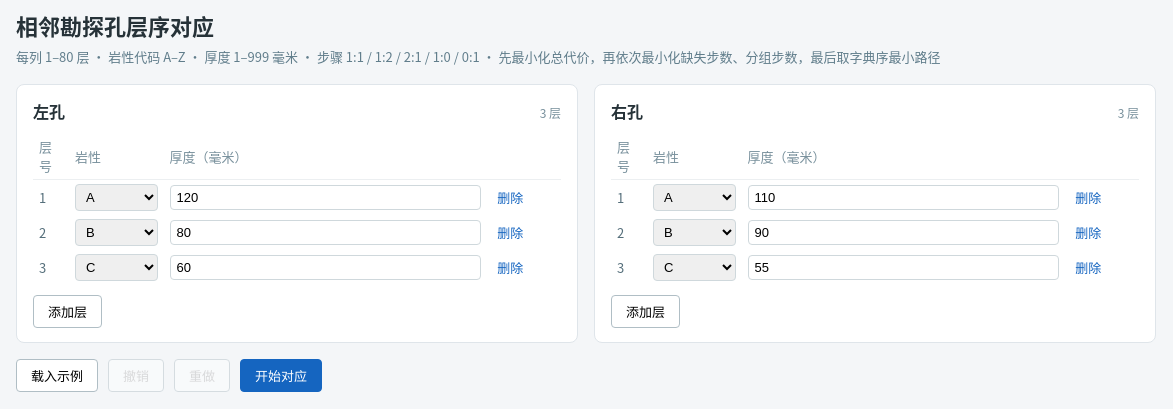
Test: App › 在途响应返回前输入已变化时丢弃旧证据
Click the button "开始对应".
click(281, 376)  # box [240,359,322,392]
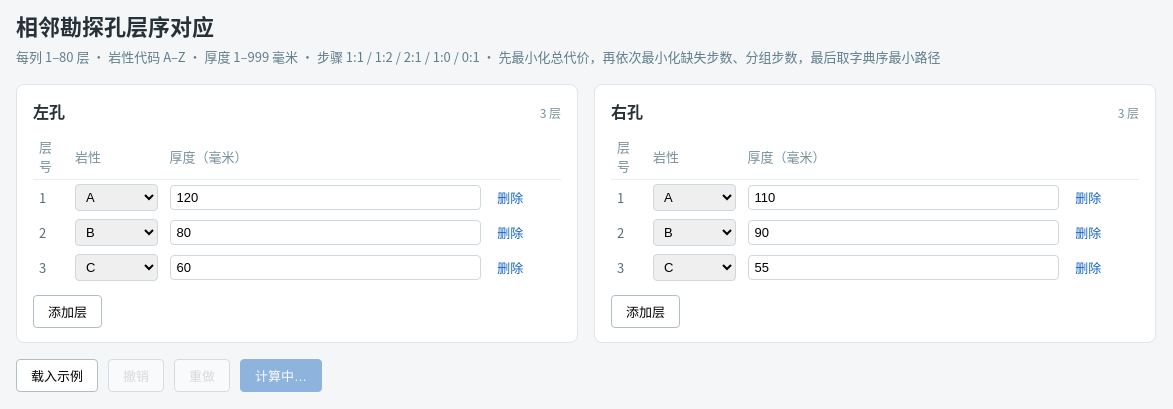
# 响应尚未返回时修改输入
Replace the text in the field with test id "layer-thickness-left-0" with "55" at (325, 198), box [170,185,481,210]
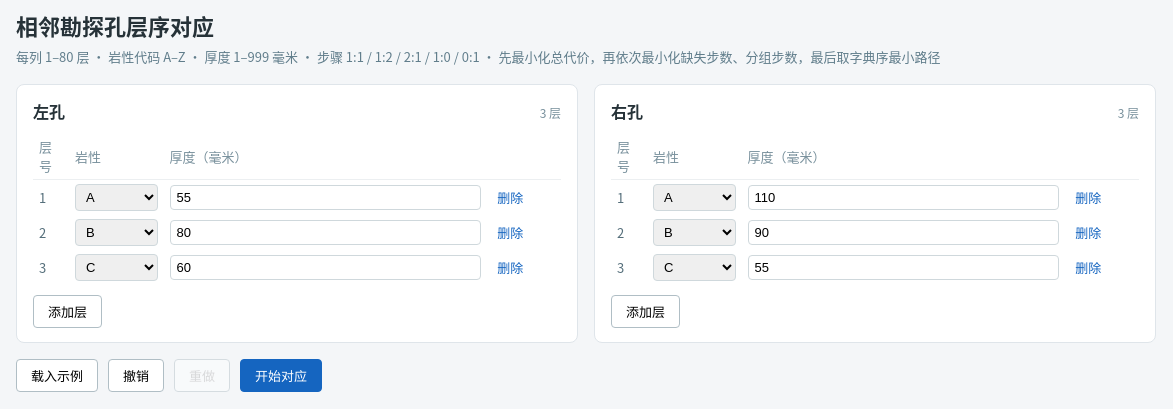
Result: the button "开始对应" is enabled at [240,359,322,392]
